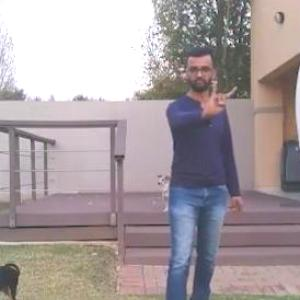takeoff-hand: (197, 68, 242, 124)
